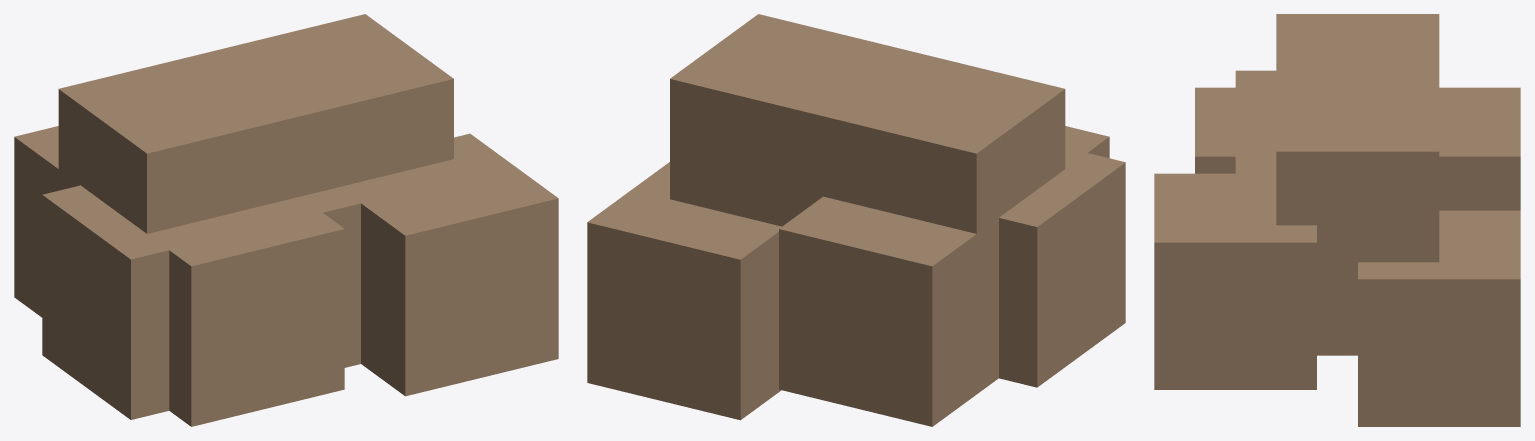
File: garbage.dae
3 views of the same model, side by side, from view 1: azimuth 30°, elevation 25°; view 2: azimuth 150°, elevation 25°; view 3: azimuth 270°, elevation 25° (orthographic). The views are drawn at different scales.
Visible parts, largest first — view 1: cube (×4); view 2: cube (×4); view 3: cube (×5).
Part boxes in pixels (x1=…): cube (×4): x1=14, y1=14, x2=558, y2=426; cube (×4): x1=587, y1=14, x2=1125, y2=426; cube (×5): x1=1154, y1=14, x2=1520, y2=426.
Size of the model in its own units: 0.1562 by 0.1094 by 0.1406.
Materials: 1 (1 with a texture image).
